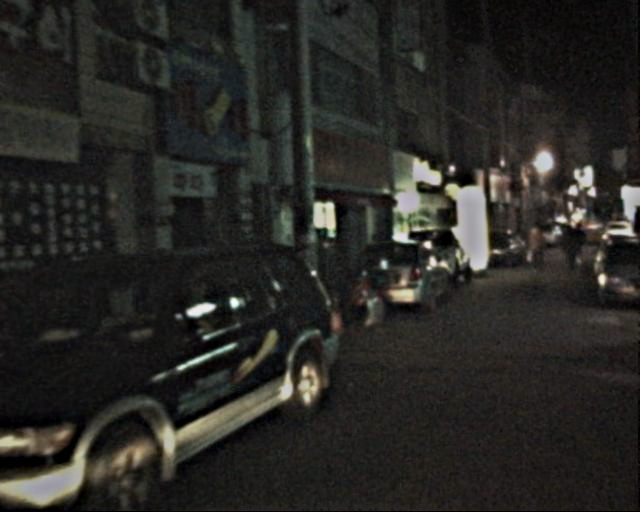person: (557, 224, 589, 277), (527, 223, 556, 274)
